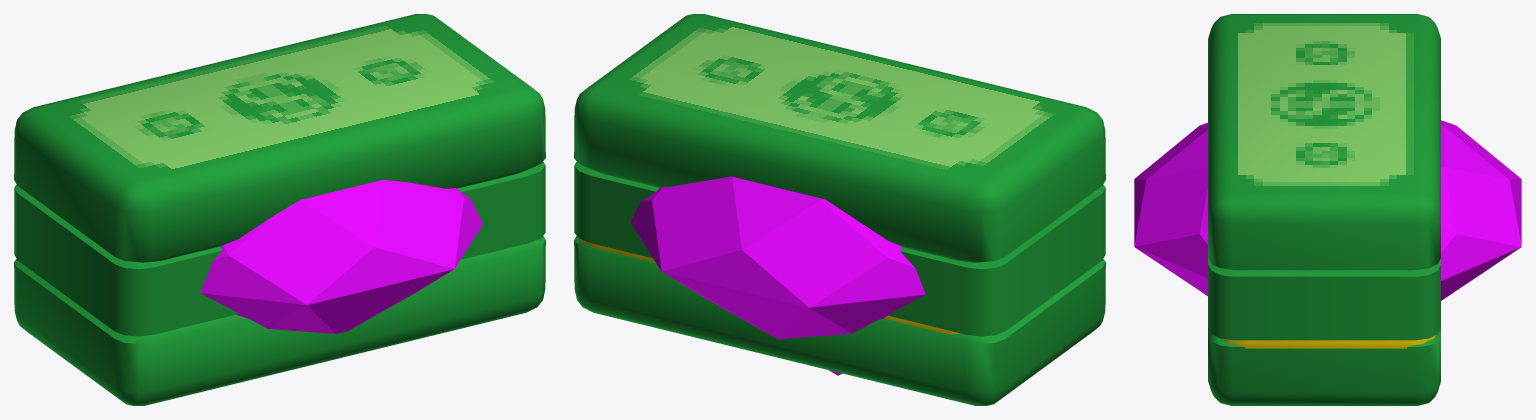
File: Collibtable.fbx
The picture shows the model from 3 angles, left to right: view 1: azimuth 30°, elevation 25°; view 2: azimuth 150°, elevation 25°; view 3: azimuth 270°, elevation 25°; orthographic projection. The views are drawn at different scales.
Parts seen in each view (by area): view 1: Money, diamond; view 2: Money, diamond, gold; view 3: Money, diamond, gold.
Part boxes in pixels (x1=…): Money: x1=14, y1=14, x2=545, y2=405; diamond: x1=200, y1=179, x2=482, y2=333; Money: x1=574, y1=14, x2=1105, y2=405; diamond: x1=630, y1=176, x2=925, y2=375; gold: x1=580, y1=239, x2=961, y2=334; Money: x1=1208, y1=14, x2=1440, y2=405; diamond: x1=1134, y1=120, x2=1521, y2=300; gold: x1=1218, y1=335, x2=1435, y2=348.
Size of the model in its own units: 1.5 by 0.9259 by 1.25.
